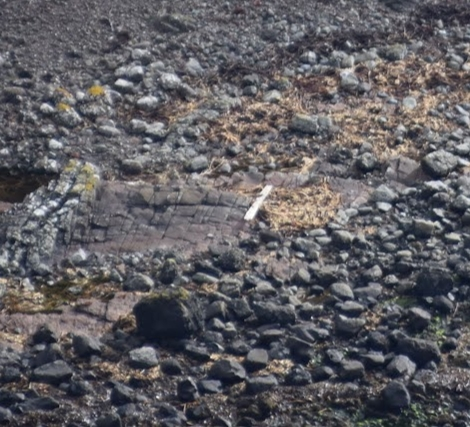straight_bar: (236, 180, 279, 229)
